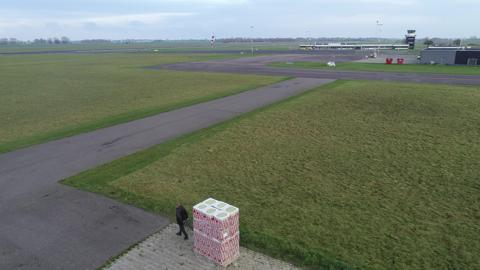RockwoolPallet: (192, 197, 241, 267)
